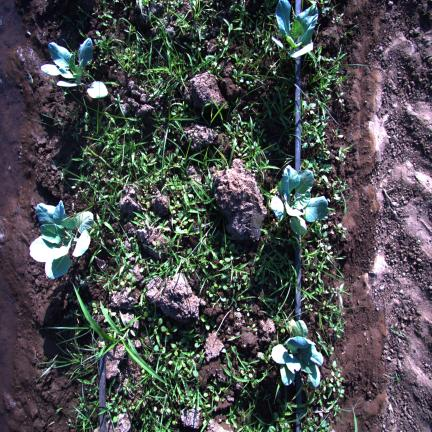crop: (29, 200, 93, 279), (270, 165, 328, 235), (41, 38, 107, 98), (271, 320, 323, 388), (276, 0, 318, 58)
